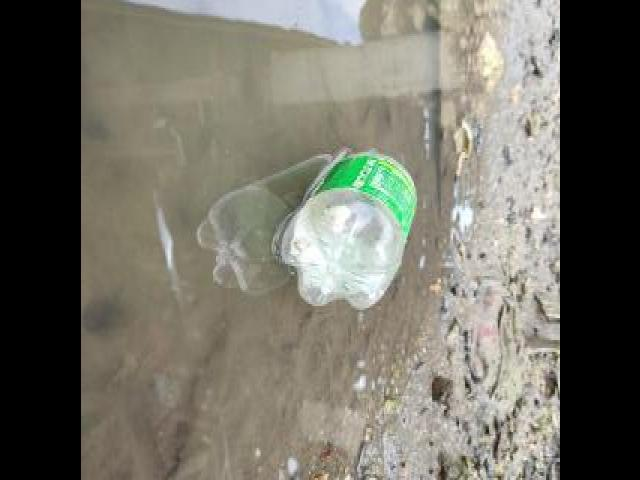Bottle: (271, 139, 421, 319)
